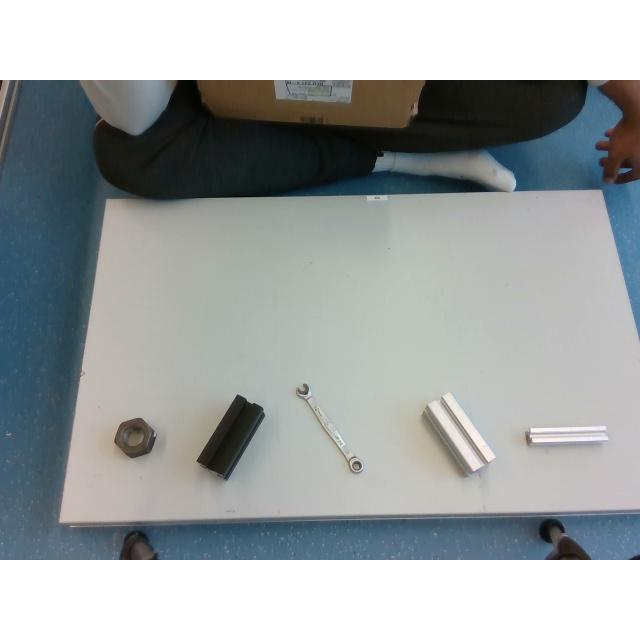F20_20_G: (524, 426, 608, 446)
M30: (114, 418, 156, 458)
S40_40_B: (196, 394, 264, 478)
S40_40_G: (424, 394, 496, 474)
Wrench: (296, 383, 364, 473)
